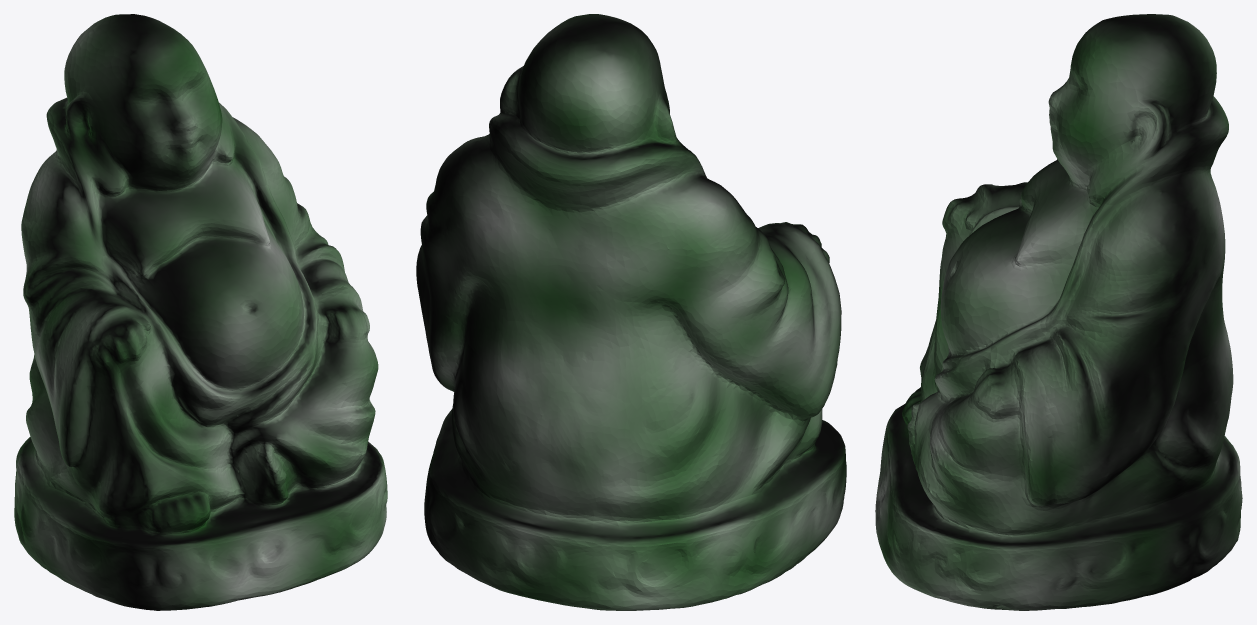
File: buddha50KC.obj
3 views of the same model, side by side, from view 1: azimuth 30°, elevation 25°; view 2: azimuth 150°, elevation 25°; view 3: azimuth 270°, elevation 25° (orthographic). The views are drawn at different scales.
Size of the model in its own units: 0.7021 by 1 by 0.6563.
